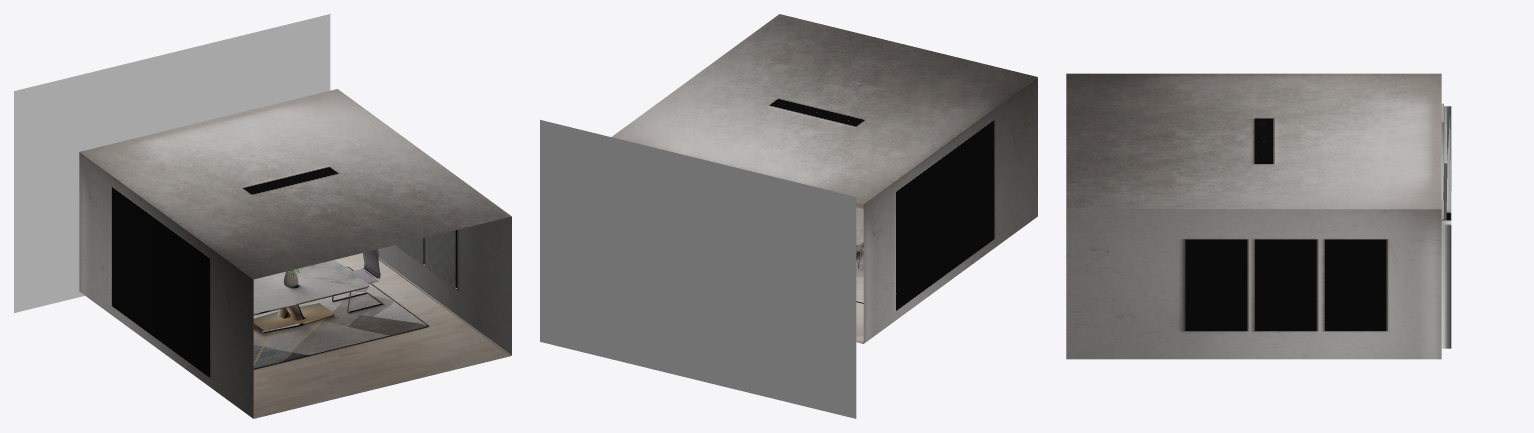
The model's file is int_dining_kitchen.fbx.
3 renders of one model, left to right at view 1: azimuth 30°, elevation 25°; view 2: azimuth 150°, elevation 25°; view 3: azimuth 270°, elevation 25°, orthographic. The views are drawn at different scales.
Visible parts, largest first — view 1: int_dining_kitchen; view 2: int_dining_kitchen; view 3: int_dining_kitchen.
Part boxes in pixels (x1=…): int_dining_kitchen: x1=14, y1=14, x2=511, y2=418; int_dining_kitchen: x1=540, y1=14, x2=1037, y2=418; int_dining_kitchen: x1=1066, y1=73, x2=1451, y2=359.
Bounding box in the file's own units: 6.98 × 4.68 × 8.05.
2 materials, 2 textured.
